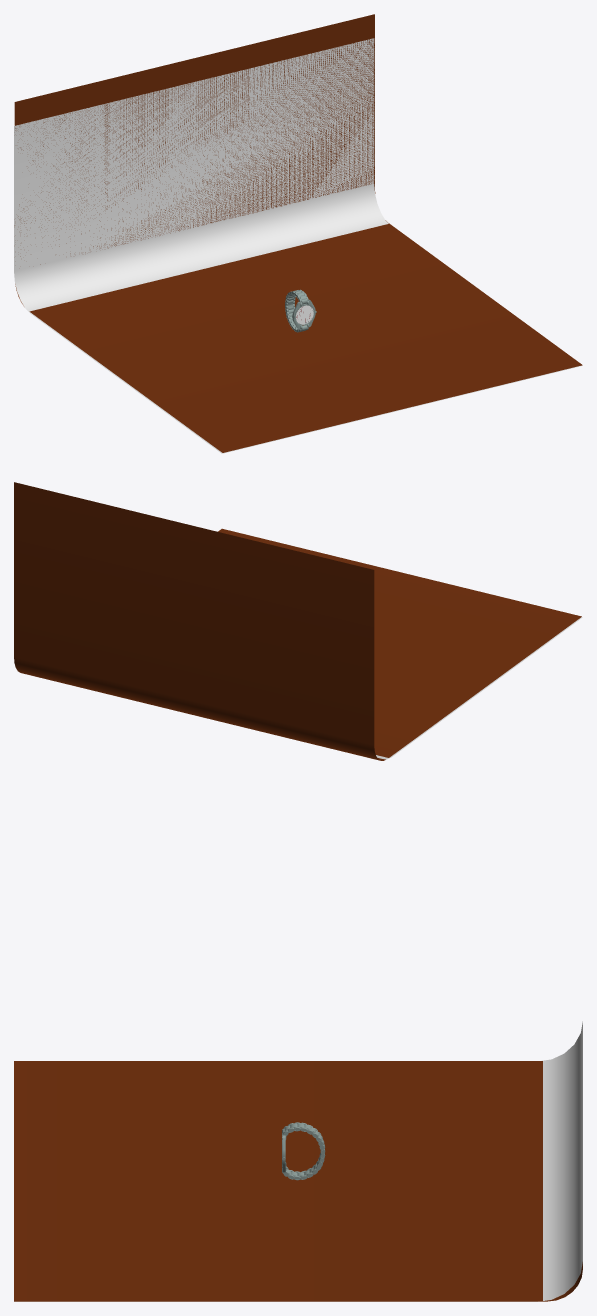
The model's file is watch.gltf.
3 views of the same model, one above another, from view 1: azimuth 30°, elevation 25°; view 2: azimuth 150°, elevation 25°; view 3: azimuth 270°, elevation 25° (orthographic). The views are drawn at different scales.
Visible parts, largest first — view 1: Plane.003, Plane.002; view 2: Plane.003, Plane.002; view 3: Plane.003, Plane.002, Cylinder.002.
Part boxes in pixels (box(x1,y1,x2,y2)): Plane.003: box(14, 14, 582, 452); Plane.002: box(14, 38, 581, 453); Plane.003: box(14, 482, 581, 760); Plane.002: box(376, 617, 582, 759); Plane.003: box(14, 1061, 582, 1301); Plane.002: box(14, 1021, 582, 1301); Cylinder.002: box(282, 1122, 325, 1180).
Bounding box in the file's own units: 2 × 1.06 × 2.
